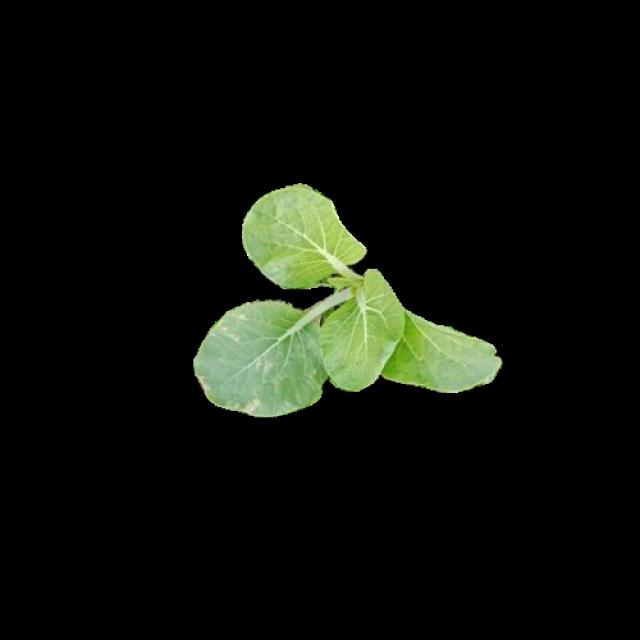not-mature: (192, 184, 500, 415)
unhealthy: (194, 300, 322, 414)
